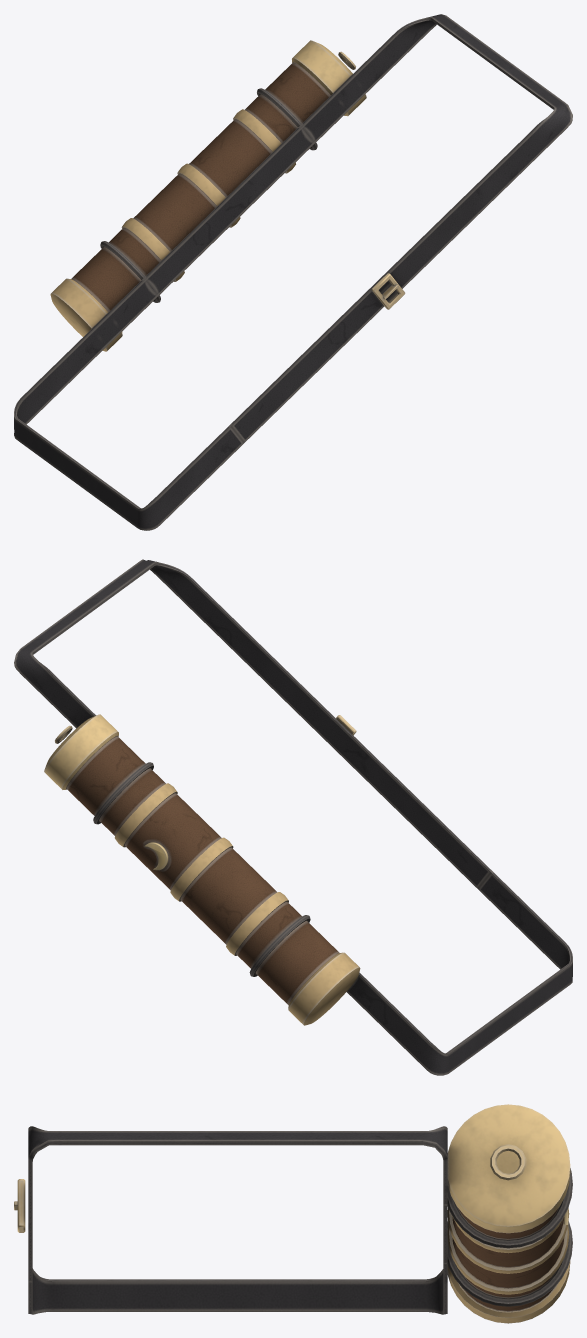
File: NHAcc_ScrollTube.fbx
The picture shows the model from 3 angles, top to bottom: view 1: azimuth 30°, elevation 25°; view 2: azimuth 150°, elevation 25°; view 3: azimuth 270°, elevation 25°; orthographic projection. The views are drawn at different scales.
Parts seen in each view (by area): view 1: ScrollTube; view 2: ScrollTube; view 3: ScrollTube.
Part boxes in pixels (x1,y1,x2,y2): ScrollTube: (14, 14, 572, 530); ScrollTube: (14, 559, 572, 1075); ScrollTube: (14, 1104, 572, 1323).
Bounding box in the file's own units: 2.02 × 1.44 × 1.49.
Materials: 1 (1 with a texture image).
